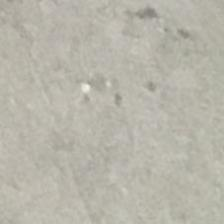Non_Crack: (27, 19, 216, 203)
